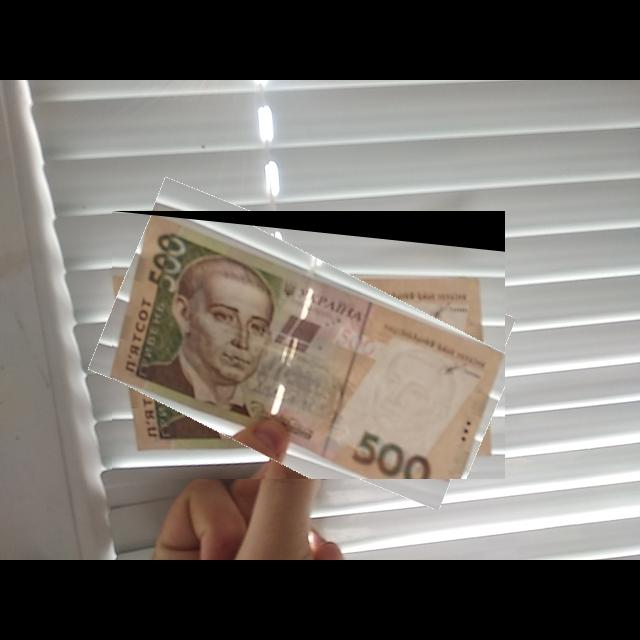500uah: (112, 215, 506, 480)
